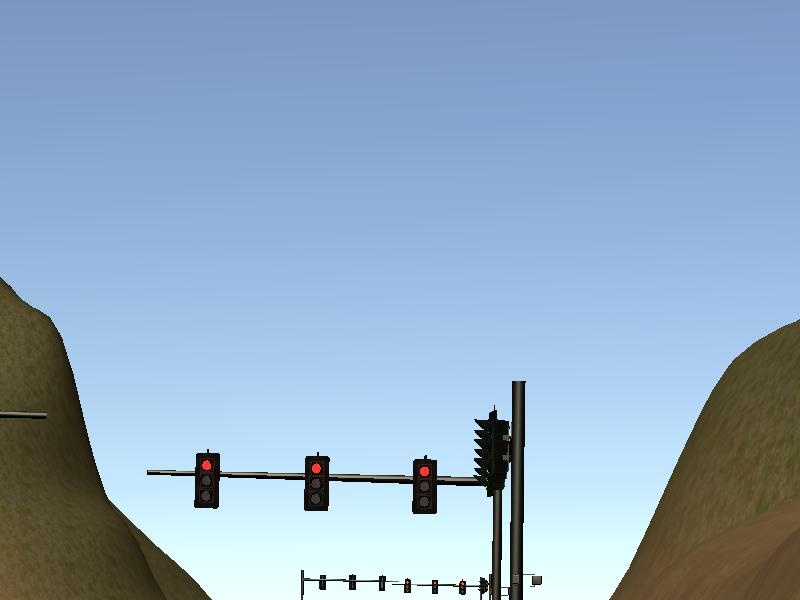red_light: (412, 458, 437, 513), (307, 456, 328, 513), (196, 453, 219, 504)
